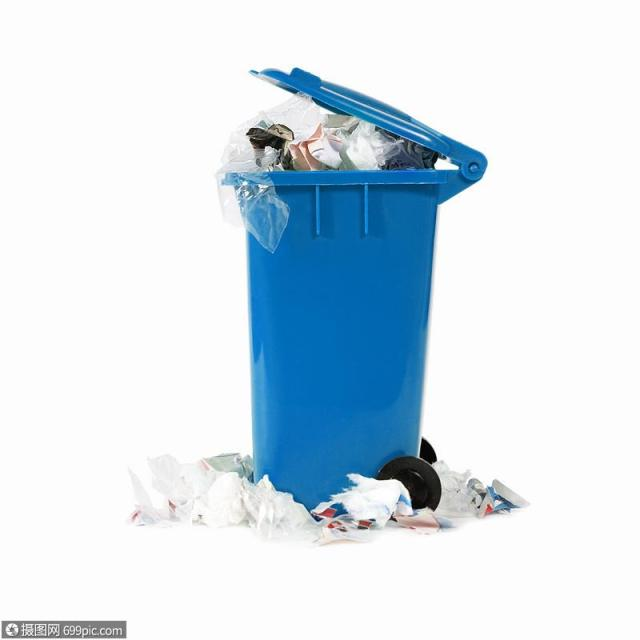garbage: (126, 450, 530, 546)
overflow: (219, 65, 486, 510)
